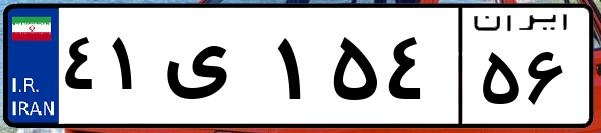1: (270, 28, 330, 110), (110, 28, 158, 98)
4: (385, 28, 445, 110), (57, 26, 110, 100)
5: (330, 28, 385, 110), (475, 38, 525, 113)
6: (525, 38, 570, 115)
ی: (158, 20, 270, 120)
